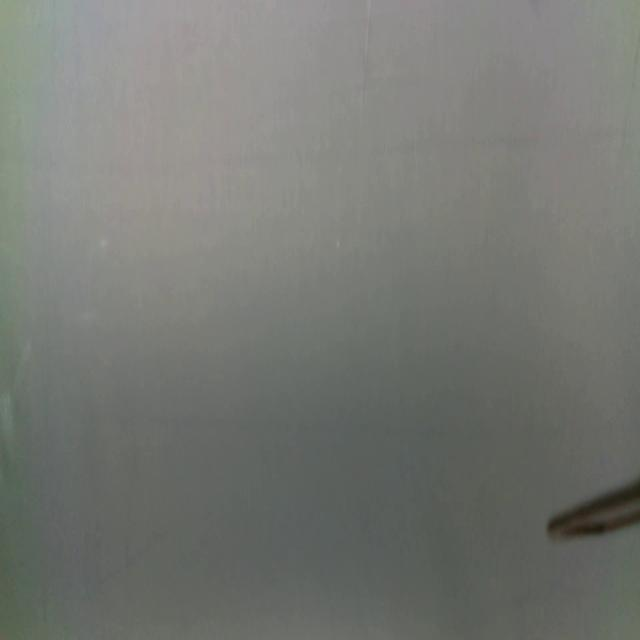crease: (362, 0, 373, 102)
hole: (96, 236, 111, 251), (333, 238, 342, 250)
